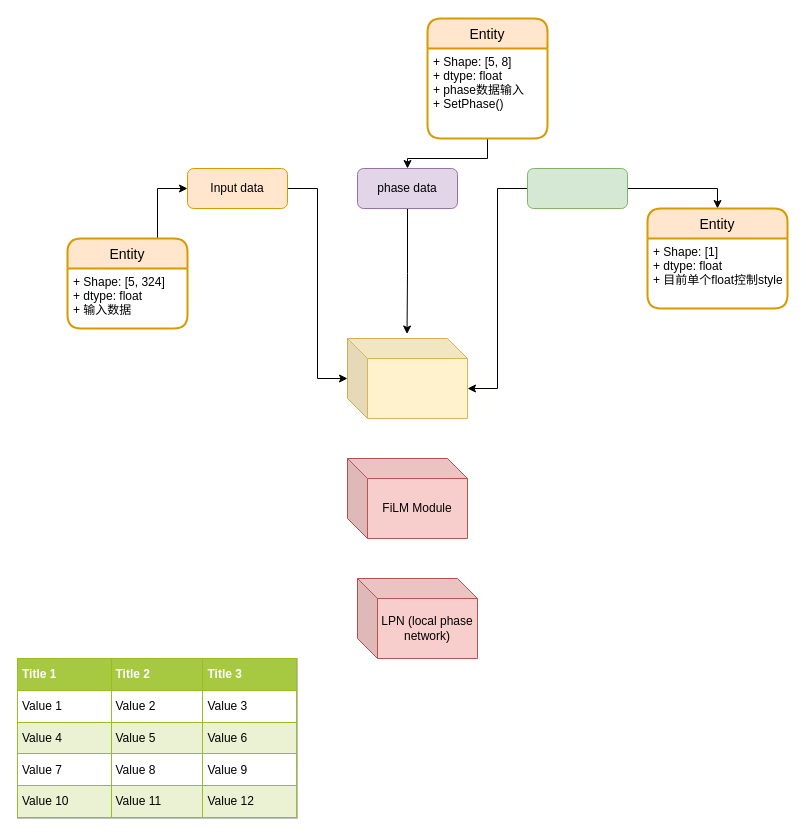
Some shapes in this 806 by 836 pixel diagram are drawn without their labels. Each missing label, with the centre of its shape:
Gating Network: [407,378]
style: [577,188]
